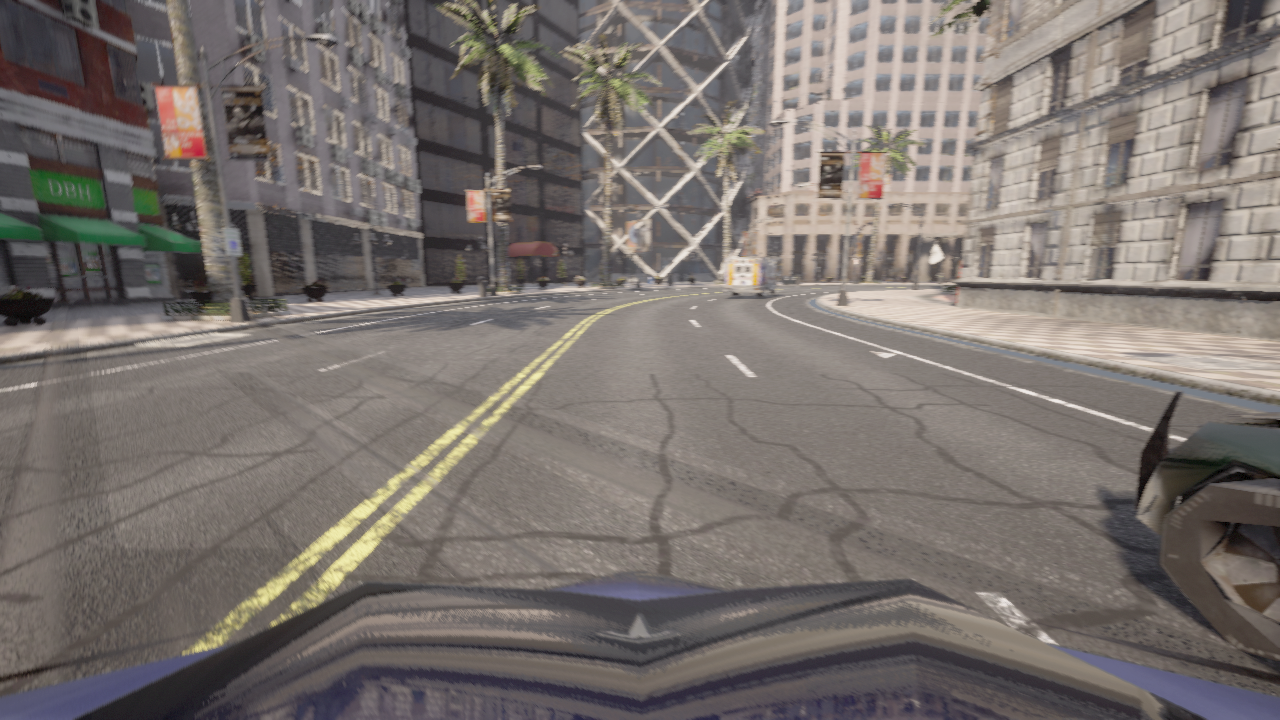cyclist: (0, 569, 1279, 719), (1134, 390, 1279, 660), (726, 260, 779, 289)
